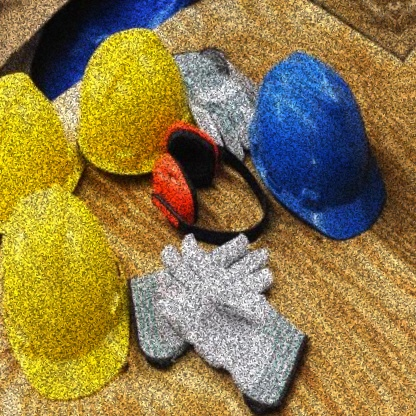blue: (231, 33, 396, 252)
yellow: (0, 172, 149, 404), (58, 10, 214, 201), (0, 59, 93, 228)
